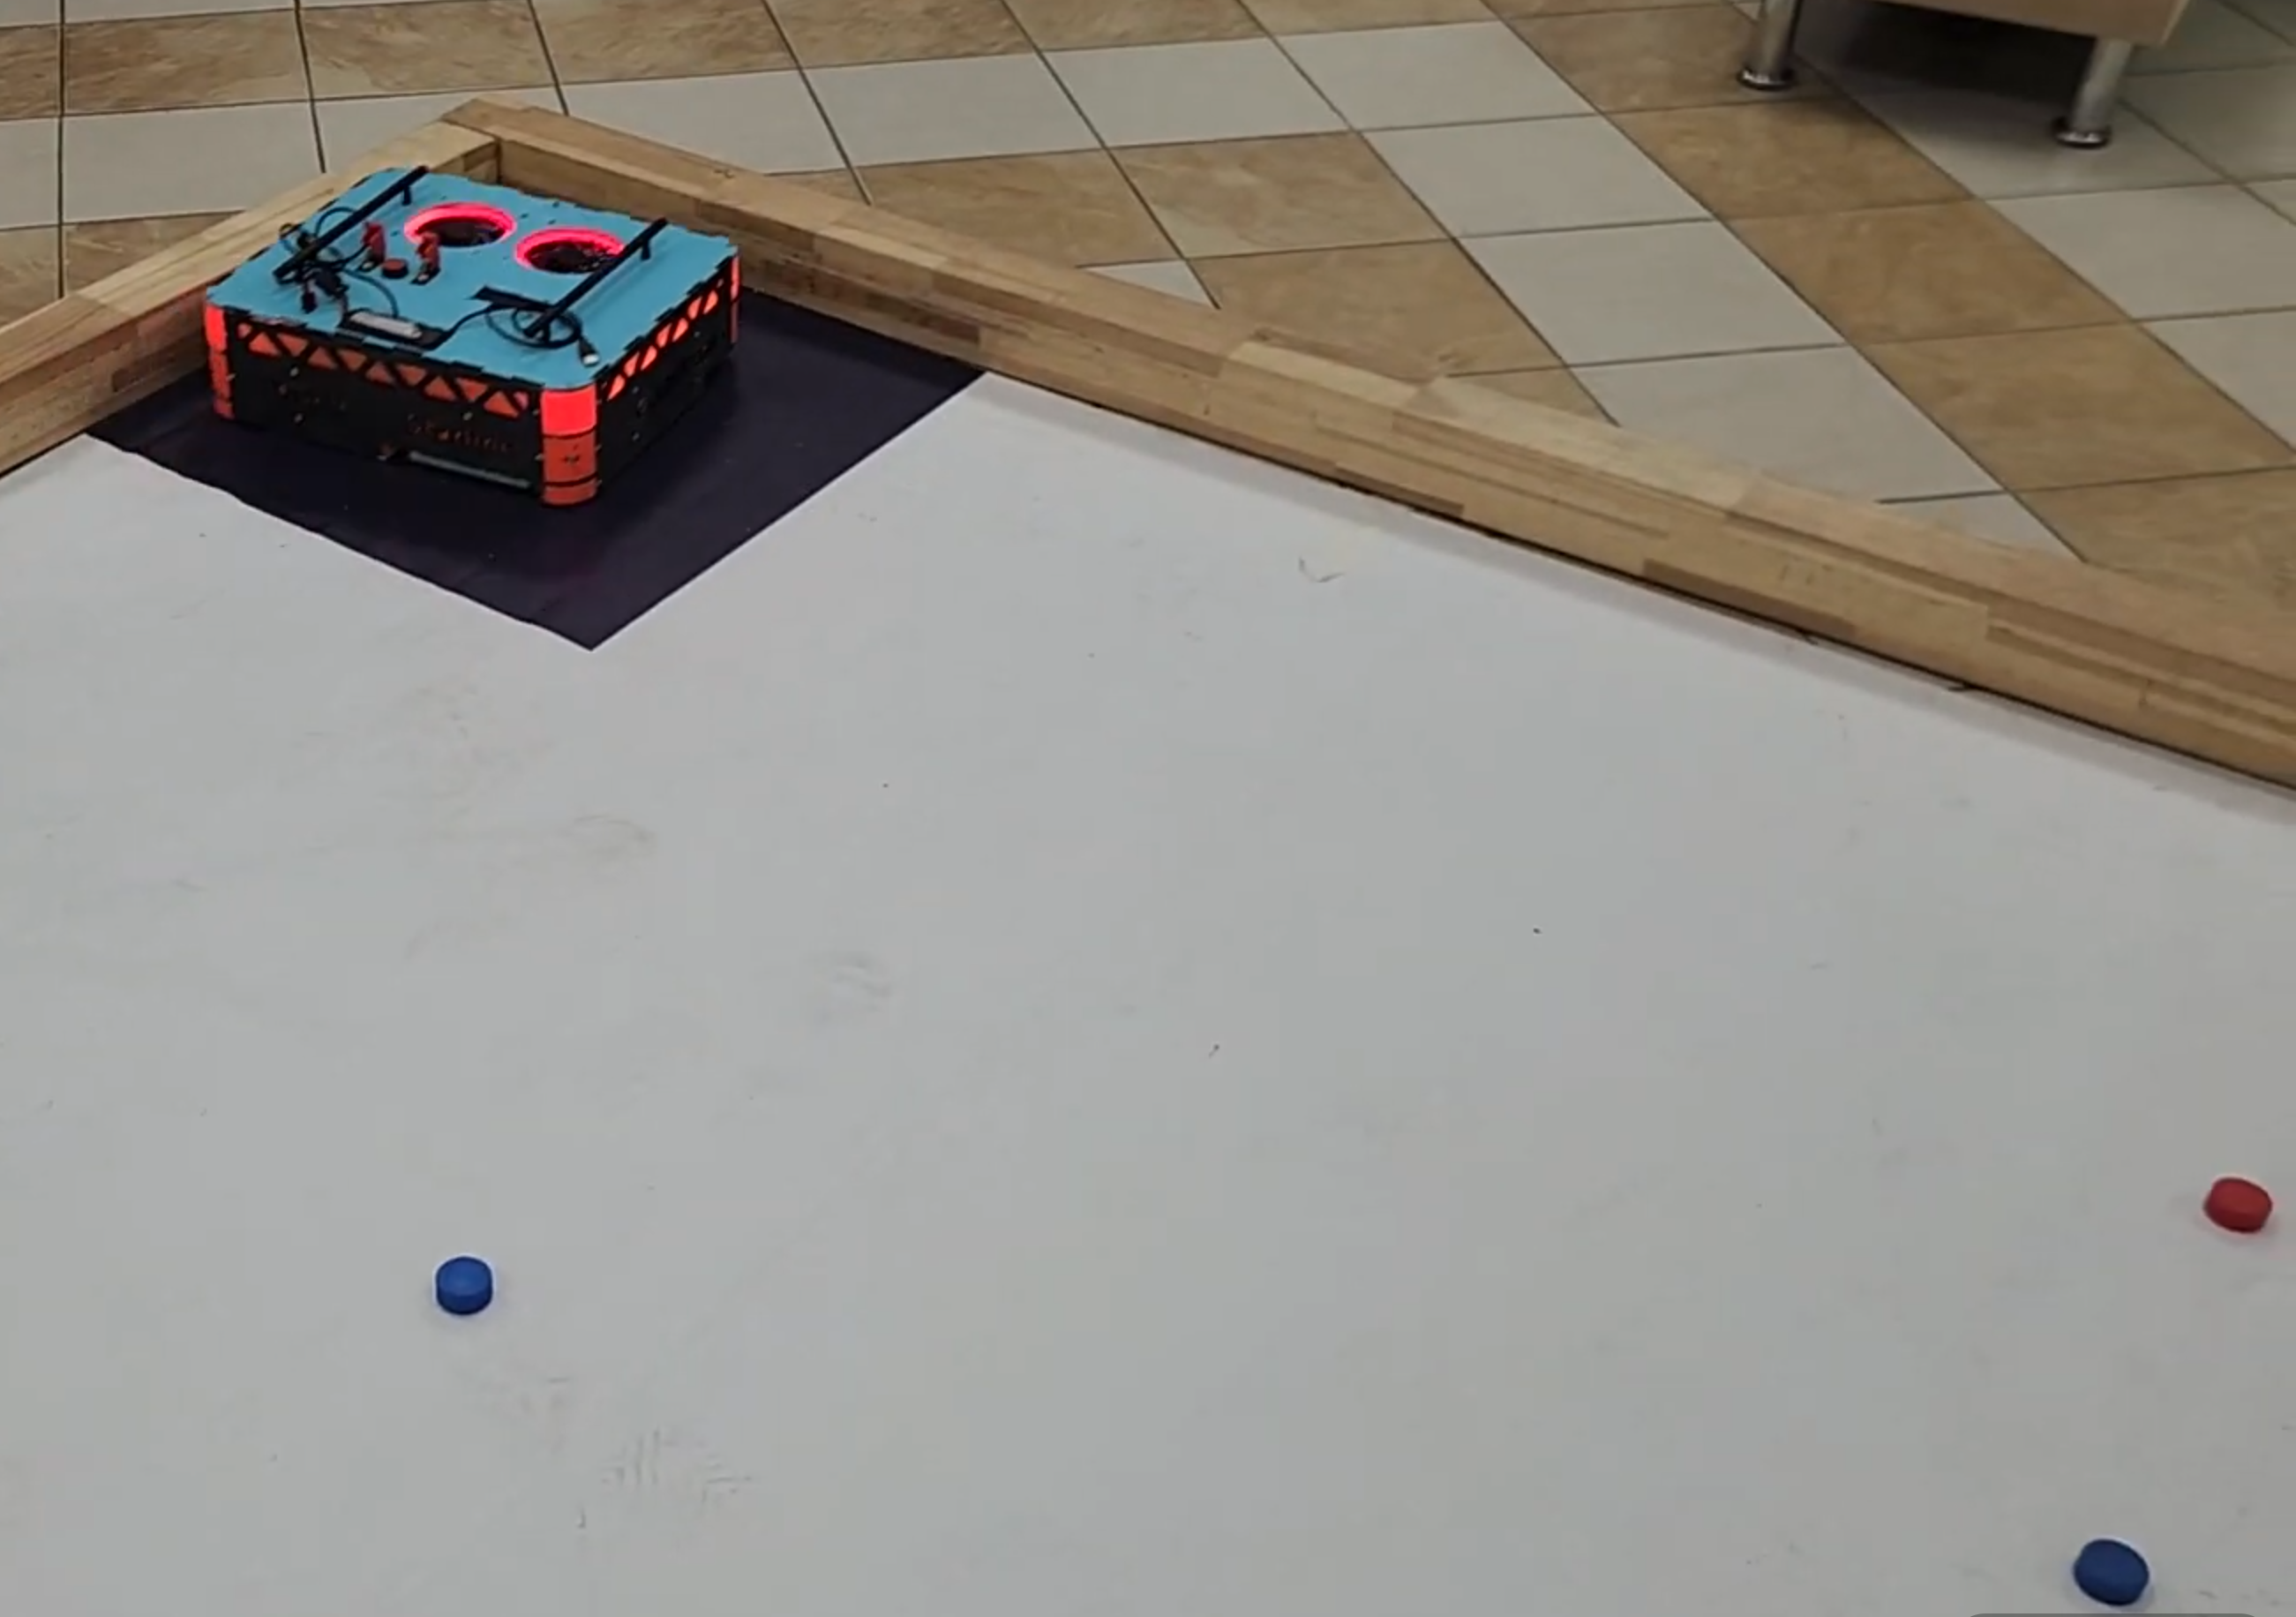blue_puck: (2074, 1536, 2153, 1608), (435, 1256, 491, 1316)
red_puck: (2203, 1172, 2270, 1241)
